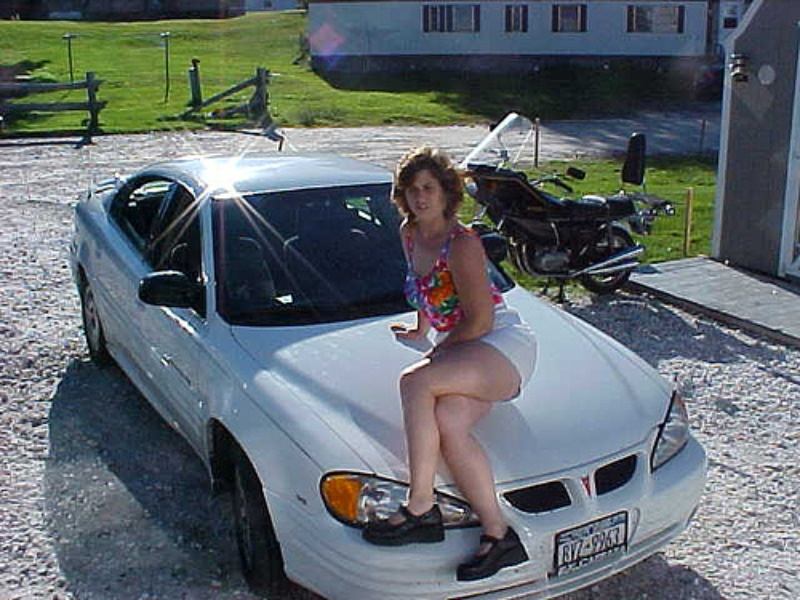car: (71, 151, 705, 600)
person: (362, 145, 540, 582)
plate: (553, 511, 629, 570)
